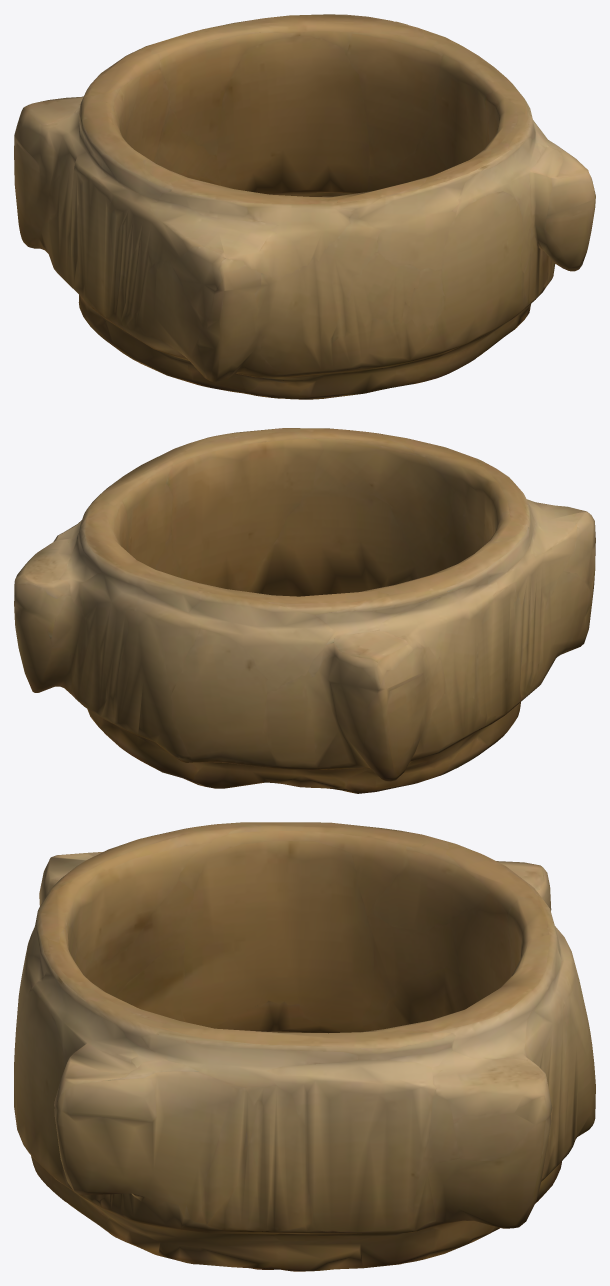
File: fuhao-cicada-overview.glb
3 renders of one model, top to bottom at view 1: azimuth 30°, elevation 25°; view 2: azimuth 150°, elevation 25°; view 3: azimuth 270°, elevation 25°, orthographic. The views are drawn at different scales.
Visible parts, largest first — view 1: node_0; view 2: node_0; view 3: node_0.
Part boxes in pixels (x1,y1,x2,y2): node_0: (14,14,595,399); node_0: (14,428,595,793); node_0: (14,822,595,1271).
Size of the model in its own units: 0.8977 by 0.4161 by 0.9285.
1 material, 1 textured.
